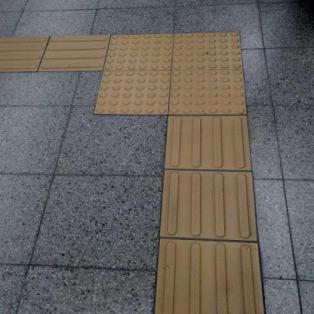Podoctatil: (78, 20, 271, 154), (155, 116, 264, 314), (1, 33, 103, 72)
